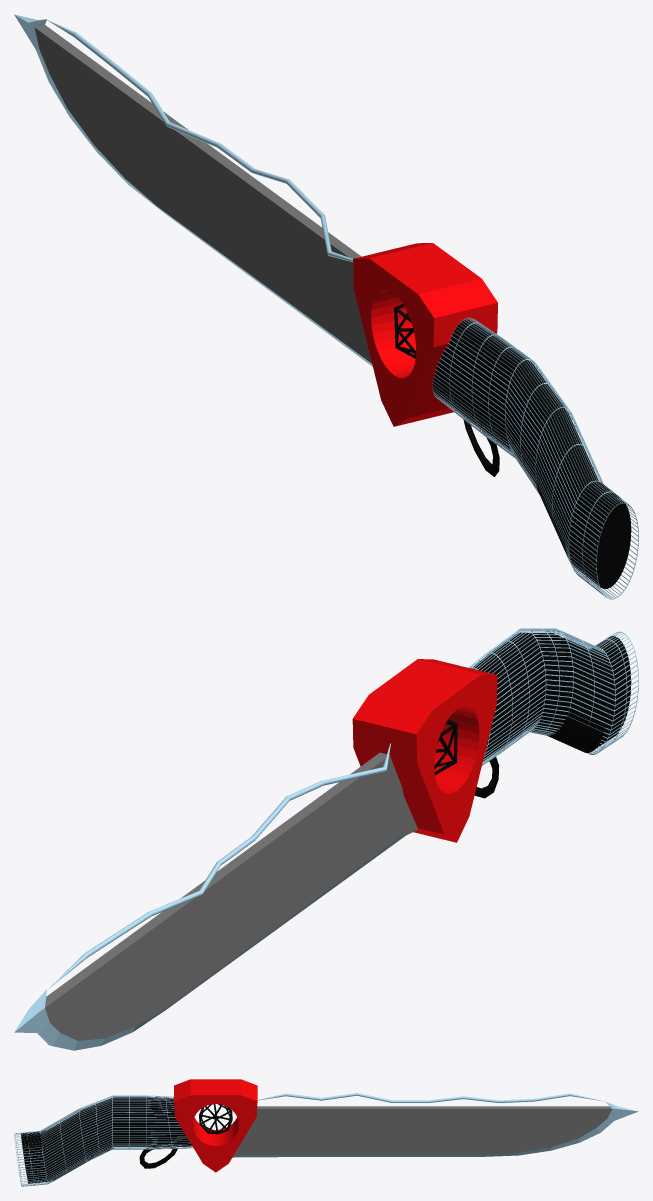
The model's file is modelstun_gun_final.fbx.
3 renders of one model, top to bottom at view 1: azimuth 30°, elevation 25°; view 2: azimuth 150°, elevation 25°; view 3: azimuth 270°, elevation 25°, orthographic. The views are drawn at different scales.
Visible parts, largest first — view 1: handle, Cylinder; view 2: handle, Cylinder, Icosphere; view 3: handle, Cylinder, Icosphere.
Boxes of the visible parts, left/top/right/bottom form: handle: left=14, top=14, right=638, bottom=599; Cylinder: left=47, top=20, right=352, bottom=262; handle: left=14, top=628, right=638, bottom=1050; Cylinder: left=48, top=743, right=390, bottom=988; Icosphere: left=434, top=719, right=457, bottom=774; handle: left=14, top=1079, right=638, bottom=1186; Cylinder: left=257, top=1093, right=603, bottom=1102; Icosphere: left=199, top=1104, right=232, bottom=1134.
Size of the model in its own units: 58.88 by 170 by 972.
